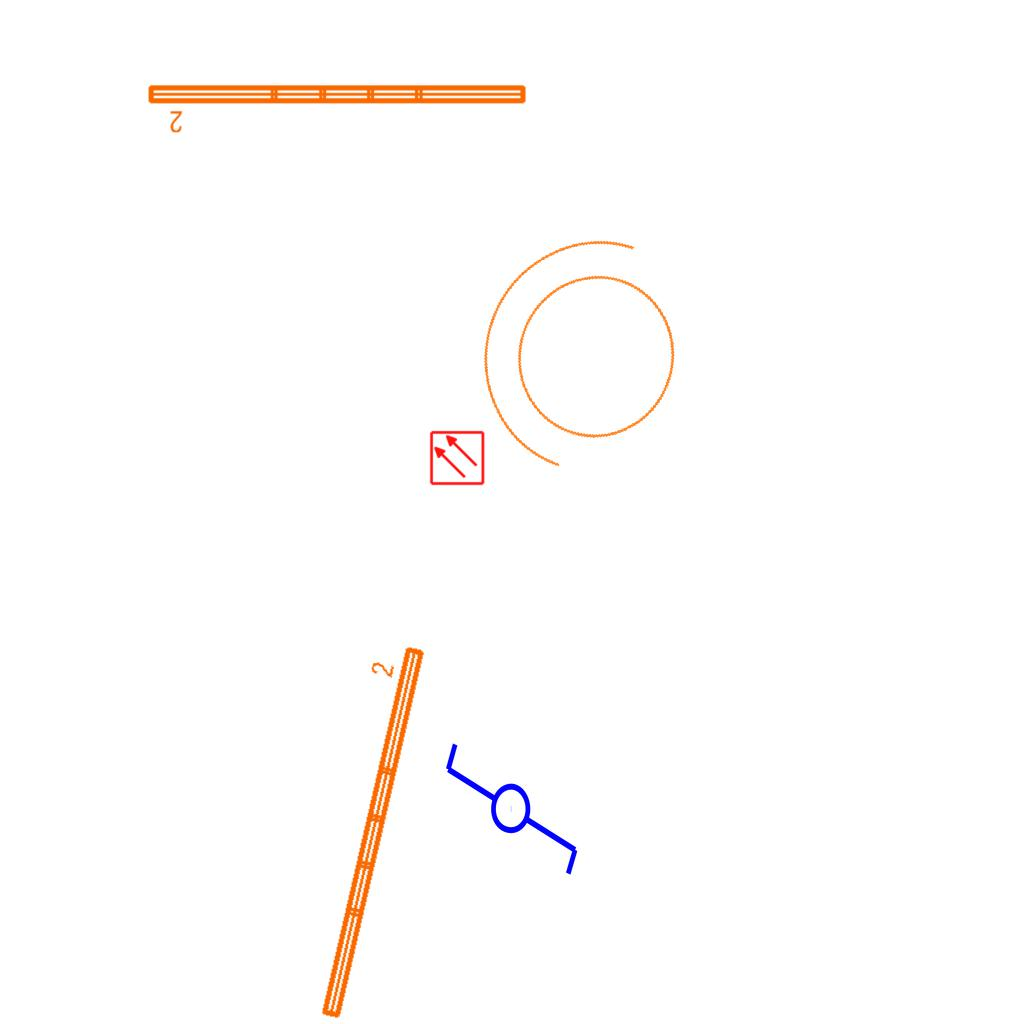Ambulanz_Pendelleuchte_LED: (289, 635, 432, 1024), (144, 79, 531, 135)
RMO_Rauchmelder_optischer: (429, 430, 485, 486)
Scheinwerfer_fuer_Alarmbeleuchtung: (435, 198, 735, 521)
Wechselschalter: (441, 722, 585, 879)
